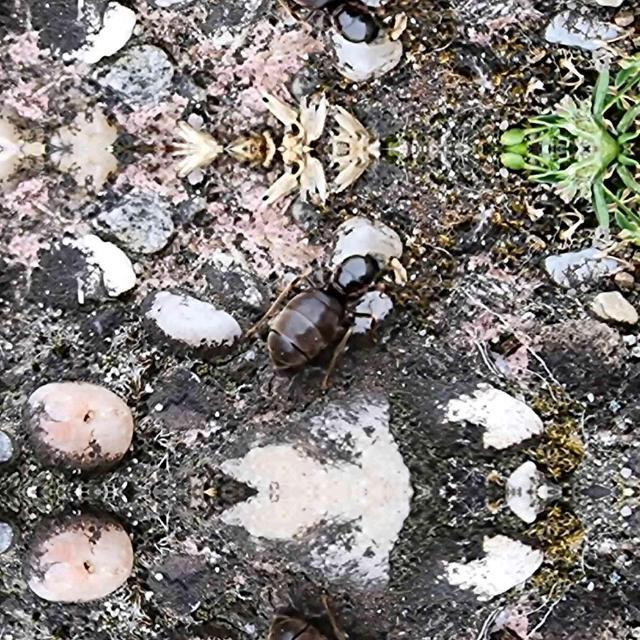Lasius: (242, 220, 408, 390), (242, 0, 406, 76), (242, 590, 406, 640)
